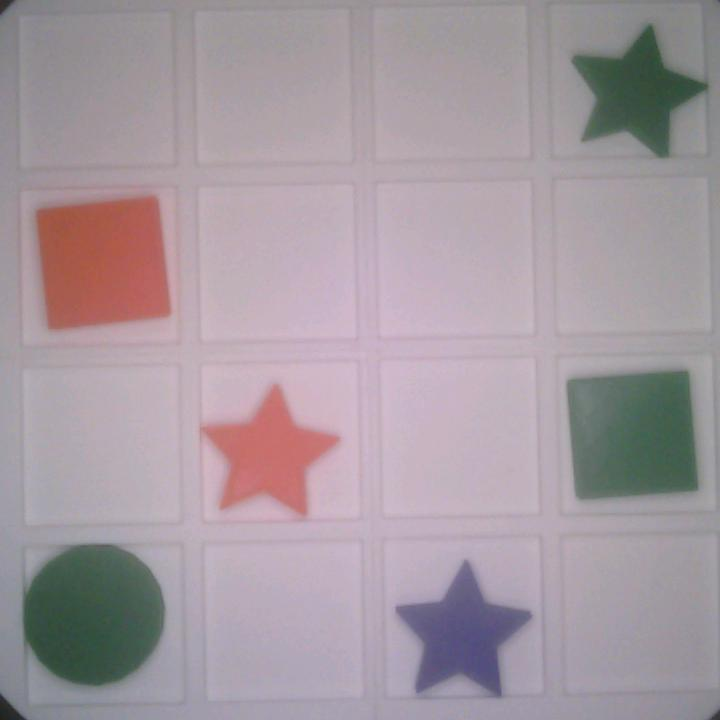Blue star: (392, 556, 534, 701)
Green circle: (23, 544, 168, 687)
Green square: (563, 369, 703, 505)
Green star: (570, 27, 706, 162)
Orange square: (35, 196, 167, 334)
Orange star: (204, 385, 341, 519)
